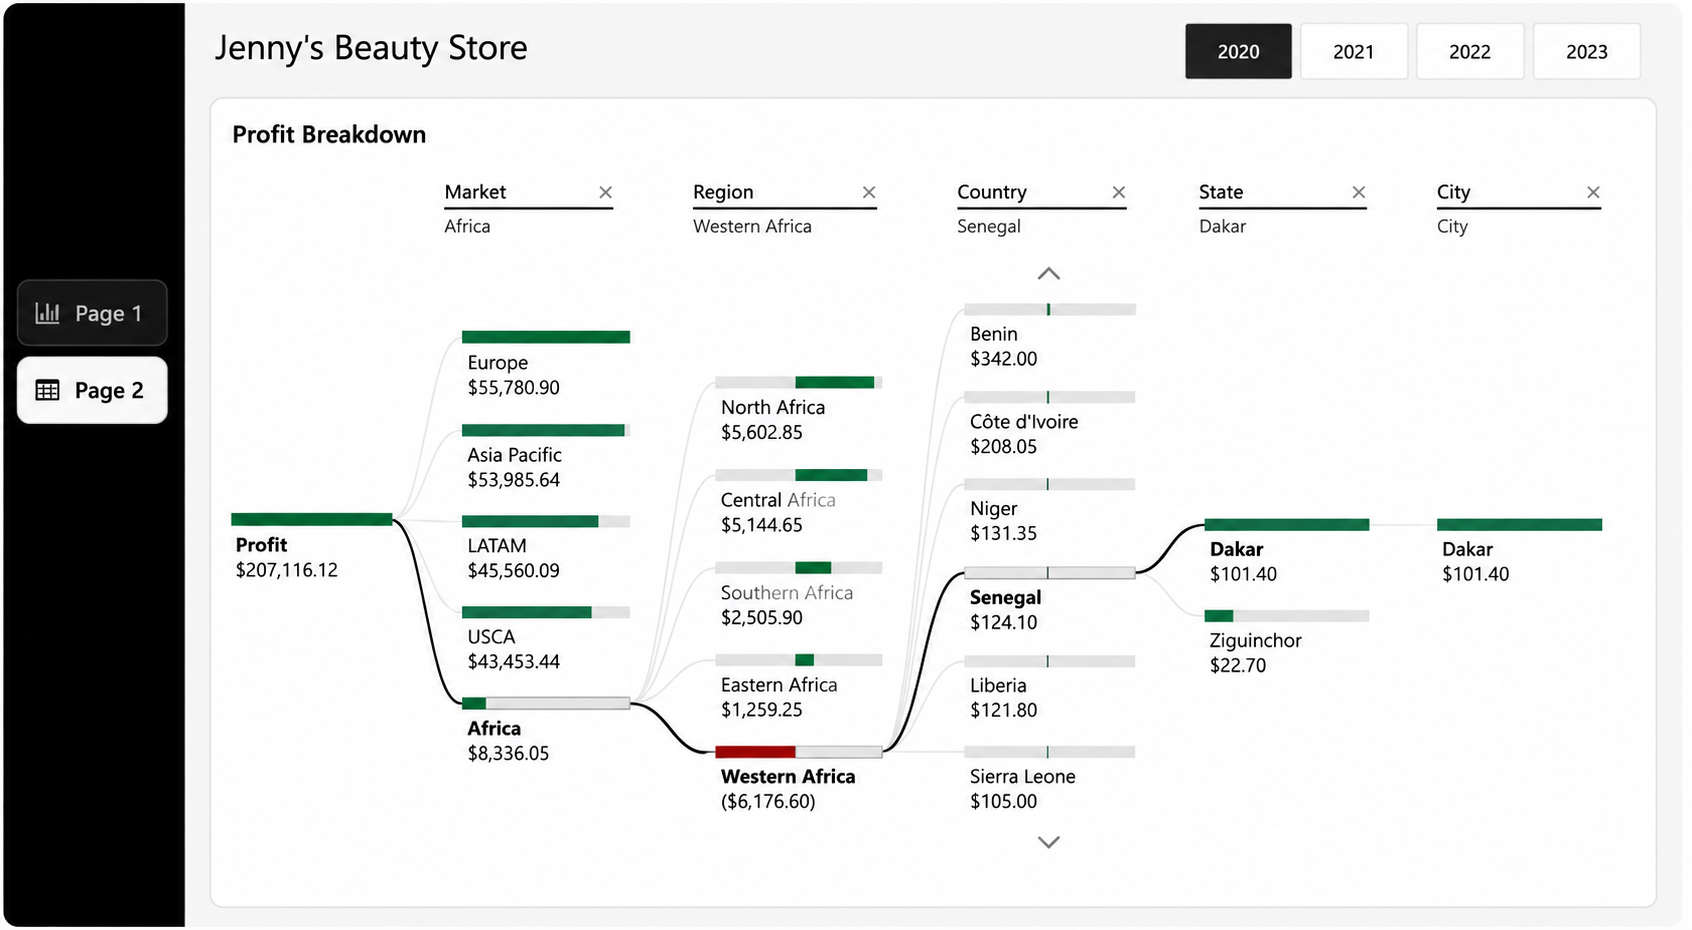

What the dashboard file says about the page in this screenshot:
{"tool":"powerbi","page":{"name":"Page 2","canvas":[1280,720],"ordinal":1},"visuals":[{"type":"decompositionTreeVisual","title":"Profit Breakdown","fields":{"Analyze":["MeasuresTable.Profit"],"ExplainBy":["Data.Market","Data.Region","Data.Country","Data.State","Data.City"]},"box":[190.4,102.4,1044.6,568.4],"z":0},{"type":"slicer","fields":{"Values":["Date Table.Year"]},"box":[908.9,30.3,320.3,56.3],"z":1000},{"type":"pageNavigator","box":[24.5,209.2,112.5,95.2],"z":2000},{"type":"textbox","box":[177.5,30.3,352,46.2],"z":3000}]}

Visuals, with their boxes on the page's 1280x720 design canvas (x1, y1, x2, y2). These are canvas units, not pixel positions in the 1692x930 screenshot, which may show the page scaled, cropped or inside an application window:
"Profit Breakdown" decompositionTreeVisual: x1=190, y1=102, x2=1235, y2=671
slicer - Date Table.Year: x1=909, y1=30, x2=1229, y2=87
pageNavigator: x1=24, y1=209, x2=137, y2=304
textbox: x1=178, y1=30, x2=530, y2=76
